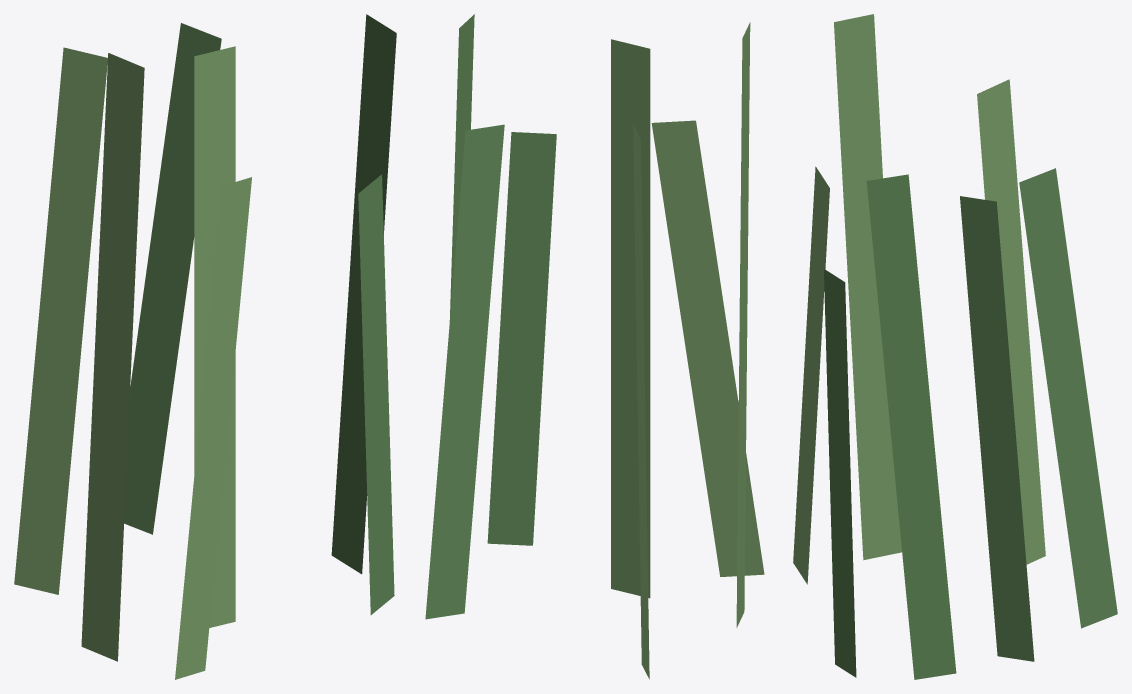
Rendered from tall_grass.glb.
The picture shows the model from 3 angles, left to right: view 1: azimuth 30°, elevation 25°; view 2: azimuth 150°, elevation 25°; view 3: azimuth 270°, elevation 25°; orthographic projection. The views are drawn at different scales.
Visible parts, largest first — view 1: blade_3, blade_5, blade_6, blade_7, blade_1, blade_8, blade_4; view 2: blade_7, blade_2, blade_4, blade_1, blade_5, blade_3, blade_8; view 3: blade_8, blade_5, blade_6, blade_2, blade_3, blade_4, blade_7.
Part boxes in pixels (bbox=[...]): blade_3: bbox=[14, 47, 107, 594]; blade_5: bbox=[81, 53, 144, 661]; blade_6: bbox=[124, 23, 221, 534]; blade_7: bbox=[175, 177, 251, 679]; blade_1: bbox=[194, 46, 235, 627]; blade_8: bbox=[331, 14, 396, 574]; blade_4: bbox=[358, 174, 394, 615]; blade_7: bbox=[651, 120, 764, 576]; blade_2: bbox=[425, 124, 504, 619]; blade_4: bbox=[487, 132, 556, 545]; blade_1: bbox=[611, 39, 650, 598]; blade_5: bbox=[736, 22, 750, 627]; blade_3: bbox=[633, 124, 649, 679]; blade_8: bbox=[449, 14, 474, 321]; blade_8: bbox=[866, 174, 956, 679]; blade_5: bbox=[834, 14, 901, 560]; blade_6: bbox=[1019, 168, 1117, 628]; blade_2: bbox=[960, 196, 1034, 661]; blade_3: bbox=[977, 79, 1045, 564]; blade_4: bbox=[824, 269, 856, 677]; blade_7: bbox=[793, 166, 829, 584].
Size of the model in its own units: 0.2144 by 0.4211 by 0.2275.
